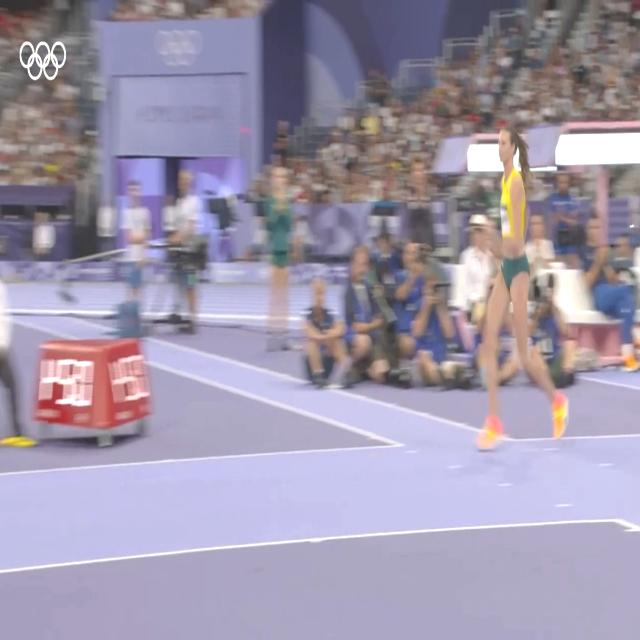run: (477, 127, 567, 453)
